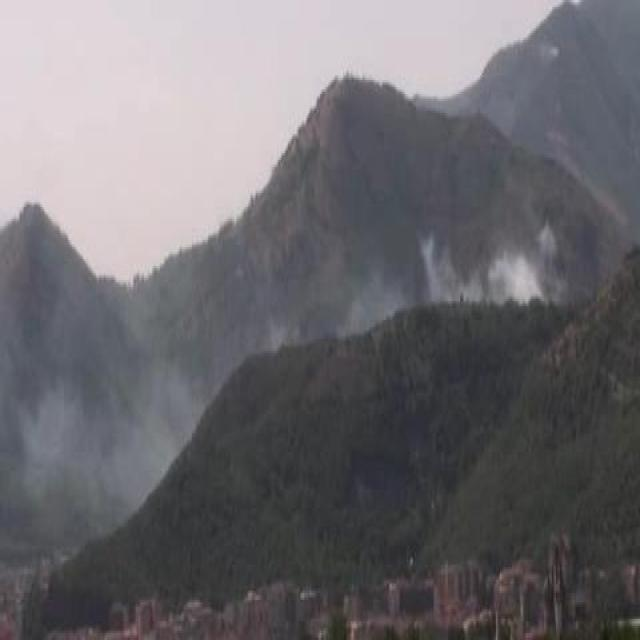Smoke: (35, 355, 177, 501), (420, 216, 555, 306)
